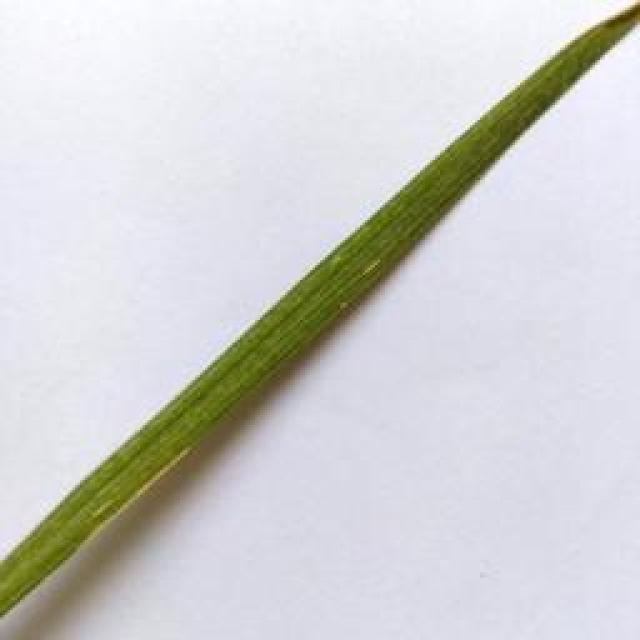Unhealthy: (82, 445, 193, 549)
